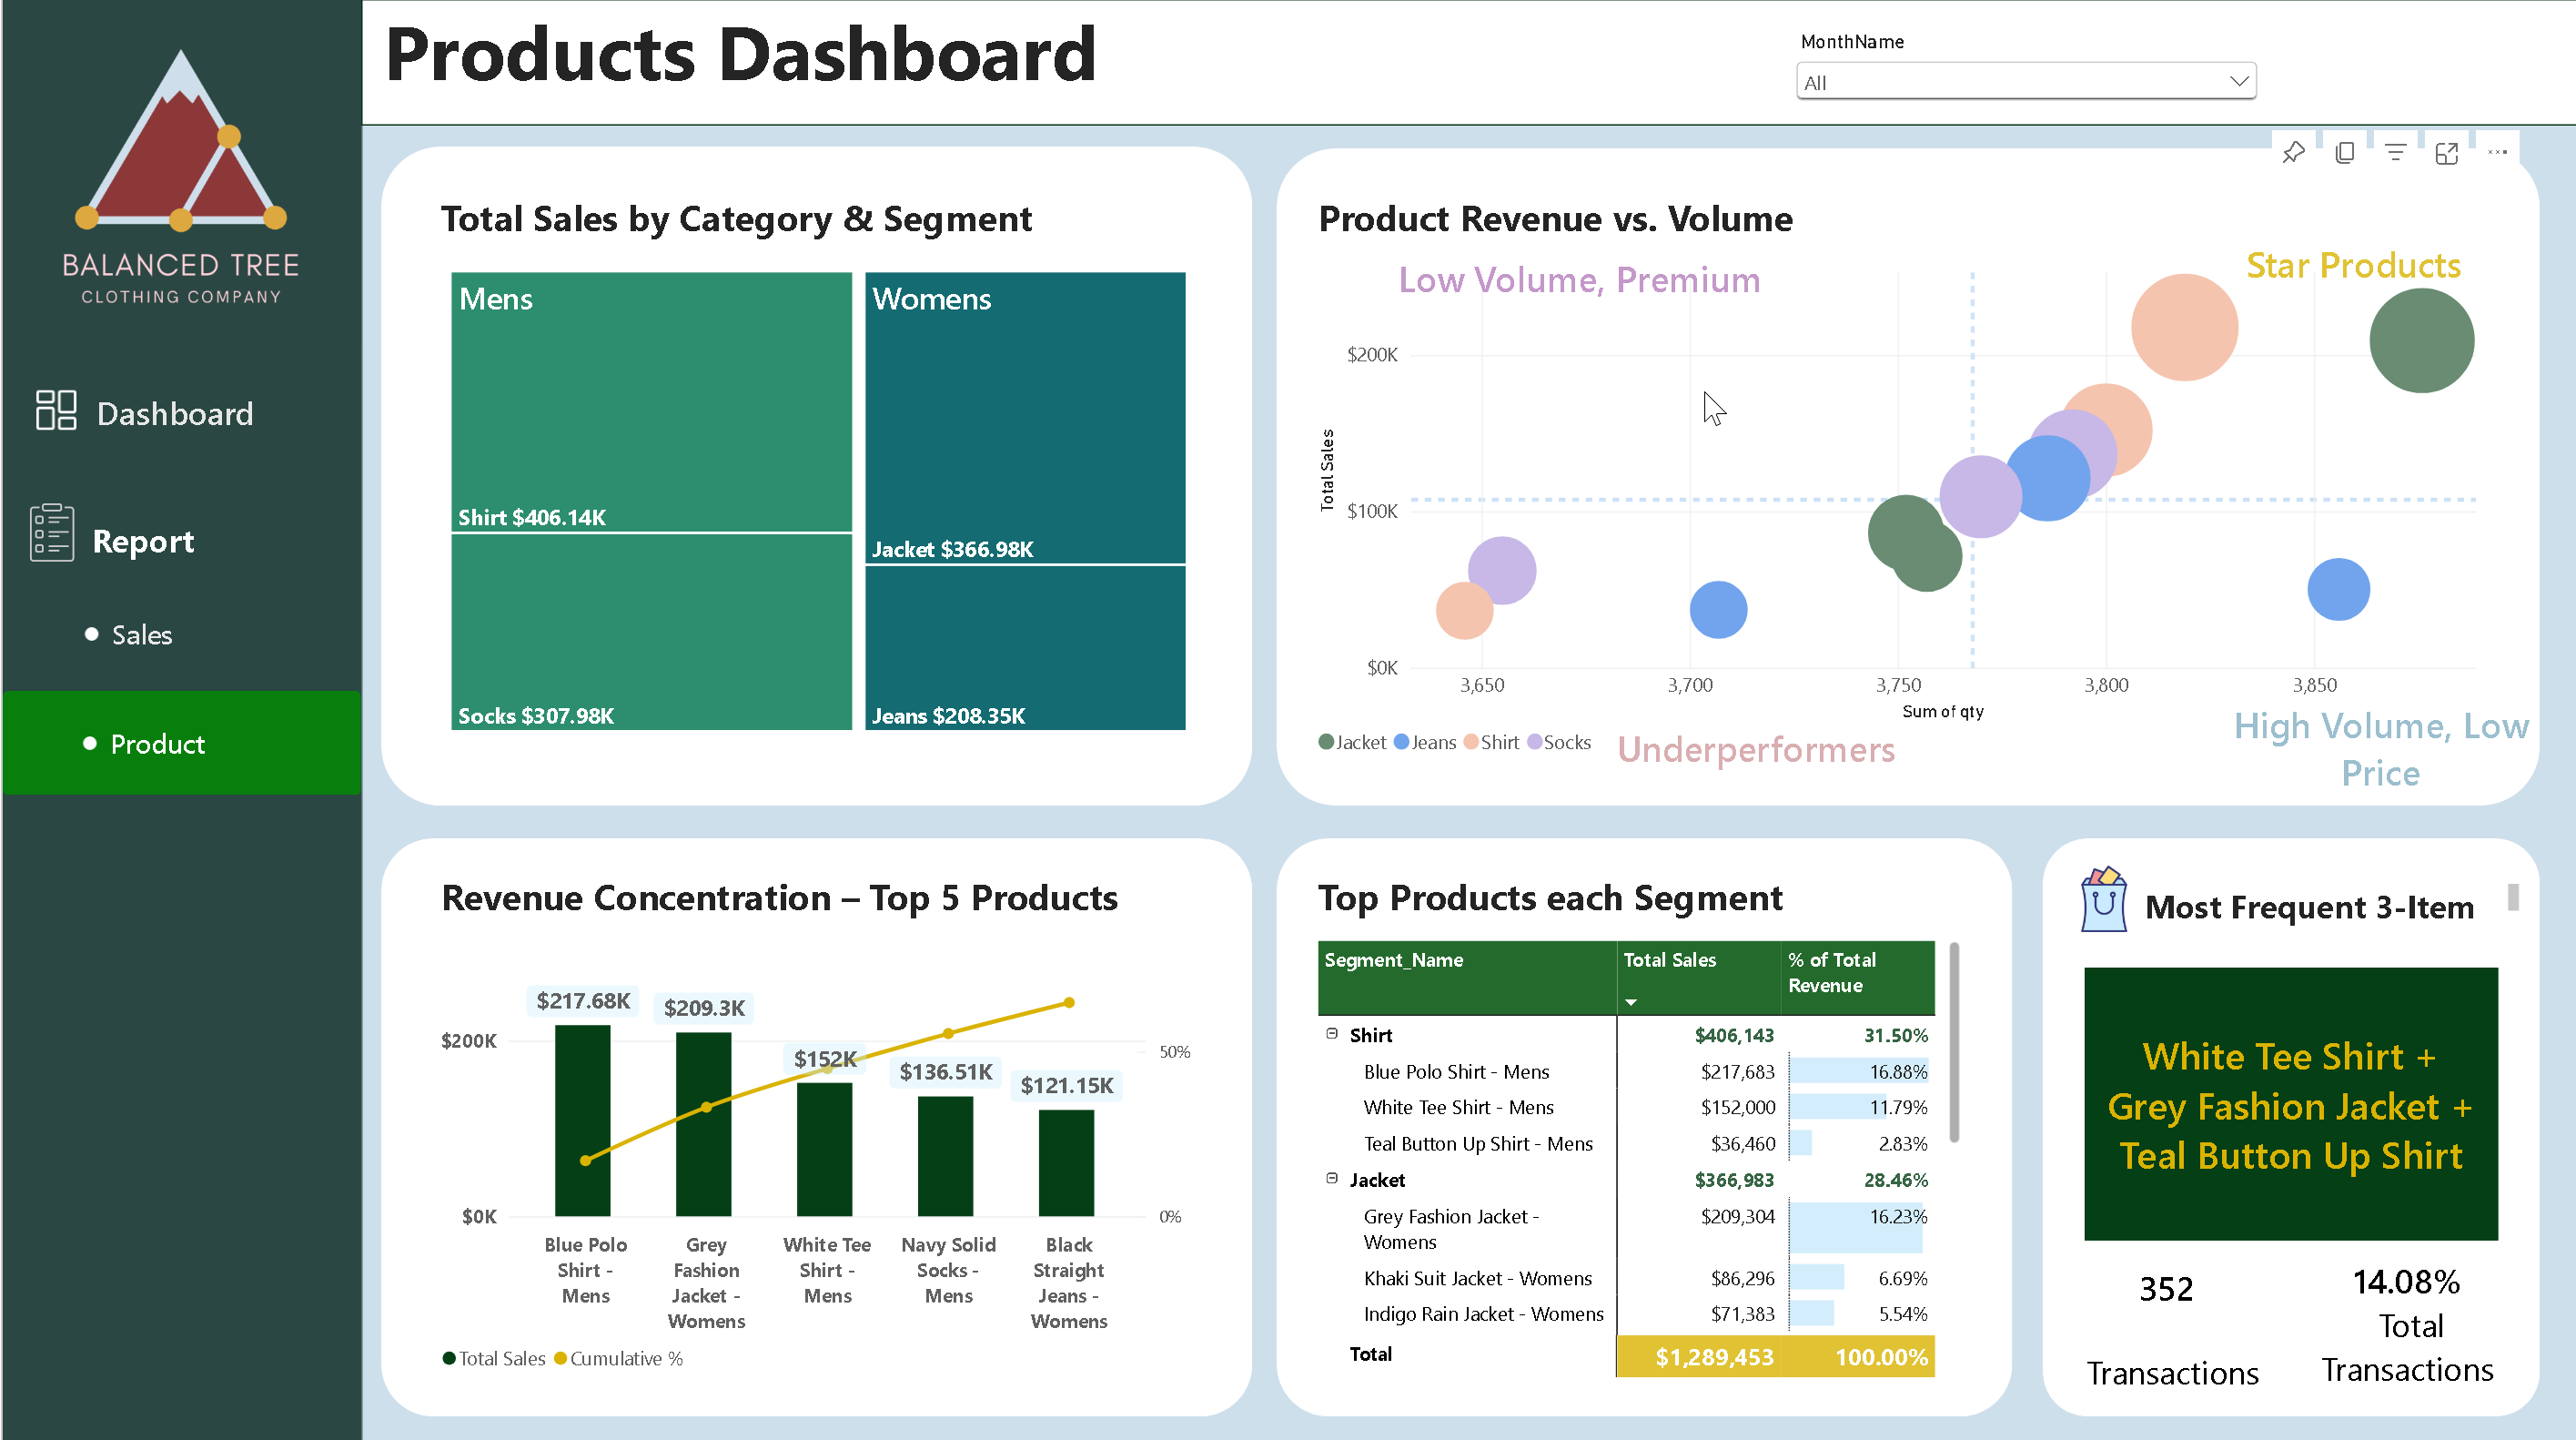

The dashboard page shown, as its layout file describes it:
{"tool":"powerbi","page":{"name":"Products","canvas":[1920,1080],"ordinal":2},"visuals":[{"type":"image","box":[0,0,267.3,267.3],"z":0,"group":"g2"},{"type":"group","id":"g1","title":"Navigation","box":[0,267.2,267.2,323.3],"z":0},{"type":"actionButton","box":[0,267.2,267.2,77.6],"z":0,"group":"g1"},{"type":"group","id":"g2","title":"Header","box":[0,0,1685.5,267.3],"z":1000},{"type":"textbox","box":[293.1,0,1098.3,112.1],"z":1000,"group":"g2"},{"type":"actionButton","box":[0,431,267.2,77.6],"z":1000,"group":"g1"},{"type":"slicer","fields":{"Values":["Date_Transaction.MonthName"]},"box":[1332,23.6,353.4,65.5],"z":2000,"group":"g2"},{"type":"actionButton","box":[0,349.1,267.2,77.6],"z":2000,"group":"g1"},{"type":"shape","box":[292.4,625.4,649.5,431],"z":2000},{"type":"shape","box":[960,111.5,941.9,489.8],"z":3000},{"type":"actionButton","box":[0,512.9,267.2,77.6],"z":3000,"group":"g1"},{"type":"shape","box":[292.4,110,649.5,491.3],"z":4000},{"type":"treemap","title":"Total Sales by Category & Segment","fields":{"Details":["product_details.Segment_Name"],"Group":["product_details.category_name"],"Values":["sales.Total Sales"]},"box":[321,129.6,595.3,438.6],"z":5000},{"type":"scatterChart","title":"Product Revenue vs. Volume","fields":{"Category":["product_details.product_name"],"Series":["product_details.Segment_Name"],"Size":["Sum(product_details.price)"],"X":["Sum(sales.qty)"],"Y":["sales.Total Sales"]},"box":[975.1,129.6,913.3,453.6],"z":6000},{"type":"textbox","box":[1672.8,179.3,212.5,43.7],"z":7000},{"type":"textbox","box":[1644.2,523,257.7,90.4],"z":8000},{"type":"textbox","box":[1023.3,179.3,284.8,43.7],"z":9000},{"type":"textbox","box":[1204.1,539.5,227.6,49.7],"z":10000},{"type":"shape","box":[960,625.4,548.6,431],"z":11000},{"type":"pivotTable","title":"Top Products each Segment","fields":{"Rows":["product_details.Segment_Name","product_details.product_name"],"Values":["sales.Total Sales","sales.% of Total Revenue"]},"box":[975.1,636,510.9,406.9],"z":12000},{"type":"lineClusteredColumnComboChart","title":"Revenue Concentration – Top 5 Products","fields":{"Category":["product_details.product_name"],"Y":["sales.Total Sales"],"Y2":["product_details.Cumulative %"]},"box":[321,636,595.3,406.9],"z":13000},{"type":"shape","box":[1531.2,625.4,370.7,431],"z":14000},{"type":"textbox","box":[1606.5,660.1,278.8,36.2],"z":15000},{"type":"image","box":[1547.8,646.5,58.8,49.7],"z":16000},{"type":"cardVisual","fields":{"Data":["Table.Top Combo_Name"]},"box":[1561.3,696.3,308.9,238.1],"z":17000},{"type":"cardVisual","fields":{"Data":["Table.Top Combo Count"]},"box":[1586.9,934.4,85.9,49.7],"z":18000},{"type":"cardVisual","fields":{"Data":["Table.Top Combo %"]},"box":[1746.7,925.3,131.1,58.8],"z":19000},{"type":"textbox","box":[1547.8,1006.7,161.3,33.2],"z":20000},{"type":"textbox","box":[1716.5,972.1,171.8,67.8],"z":21000}]}

Visuals, with their boxes on the page's 1920x1080 design canvas (x1, y1, x2, y2). These are canvas units, not pixel positions in the 2576x1440 screenshot, which may show the page scaled, cropped or inside an application window:
image: region(0, 0, 267, 267)
"Navigation" group: region(0, 267, 267, 590)
actionButton: region(0, 267, 267, 345)
"Header" group: region(0, 0, 1686, 267)
textbox: region(293, 0, 1391, 112)
actionButton: region(0, 431, 267, 509)
slicer - Date_Transaction.MonthName: region(1332, 24, 1685, 89)
actionButton: region(0, 349, 267, 427)
shape: region(292, 625, 942, 1056)
shape: region(960, 112, 1902, 601)
actionButton: region(0, 513, 267, 590)
shape: region(292, 110, 942, 601)
"Total Sales by Category & Segment" treemap: region(321, 130, 916, 568)
"Product Revenue vs. Volume" scatterChart: region(975, 130, 1888, 583)
textbox: region(1673, 179, 1885, 223)
textbox: region(1644, 523, 1902, 613)
textbox: region(1023, 179, 1308, 223)
textbox: region(1204, 540, 1432, 589)
shape: region(960, 625, 1509, 1056)
"Top Products each Segment" pivotTable: region(975, 636, 1486, 1043)
"Revenue Concentration – Top 5 Products" lineClusteredColumnComboChart: region(321, 636, 916, 1043)
shape: region(1531, 625, 1902, 1056)
textbox: region(1606, 660, 1885, 696)
image: region(1548, 646, 1607, 696)
cardVisual - Table.Top Combo_Name: region(1561, 696, 1870, 934)
cardVisual - Table.Top Combo Count: region(1587, 934, 1673, 984)
cardVisual - Table.Top Combo %: region(1747, 925, 1878, 984)
textbox: region(1548, 1007, 1709, 1040)
textbox: region(1716, 972, 1888, 1040)
